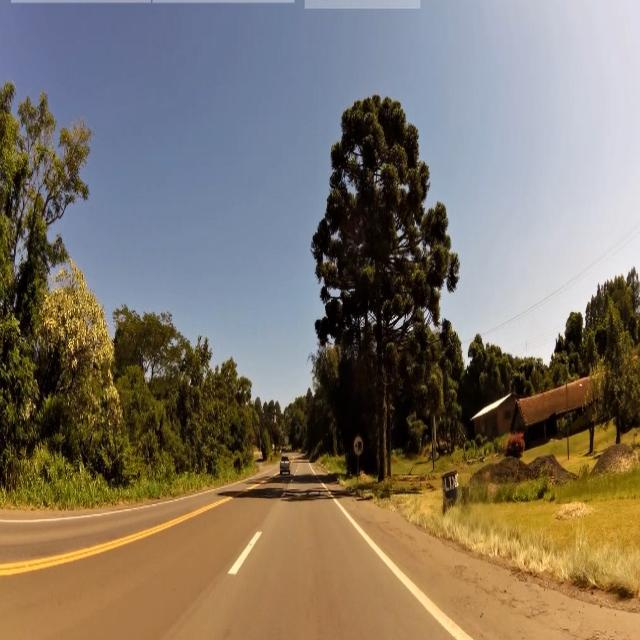R-27: (354, 435, 363, 455)
